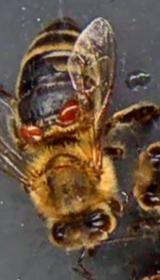varroa_mite: (51, 99, 90, 126), (22, 113, 46, 152)
